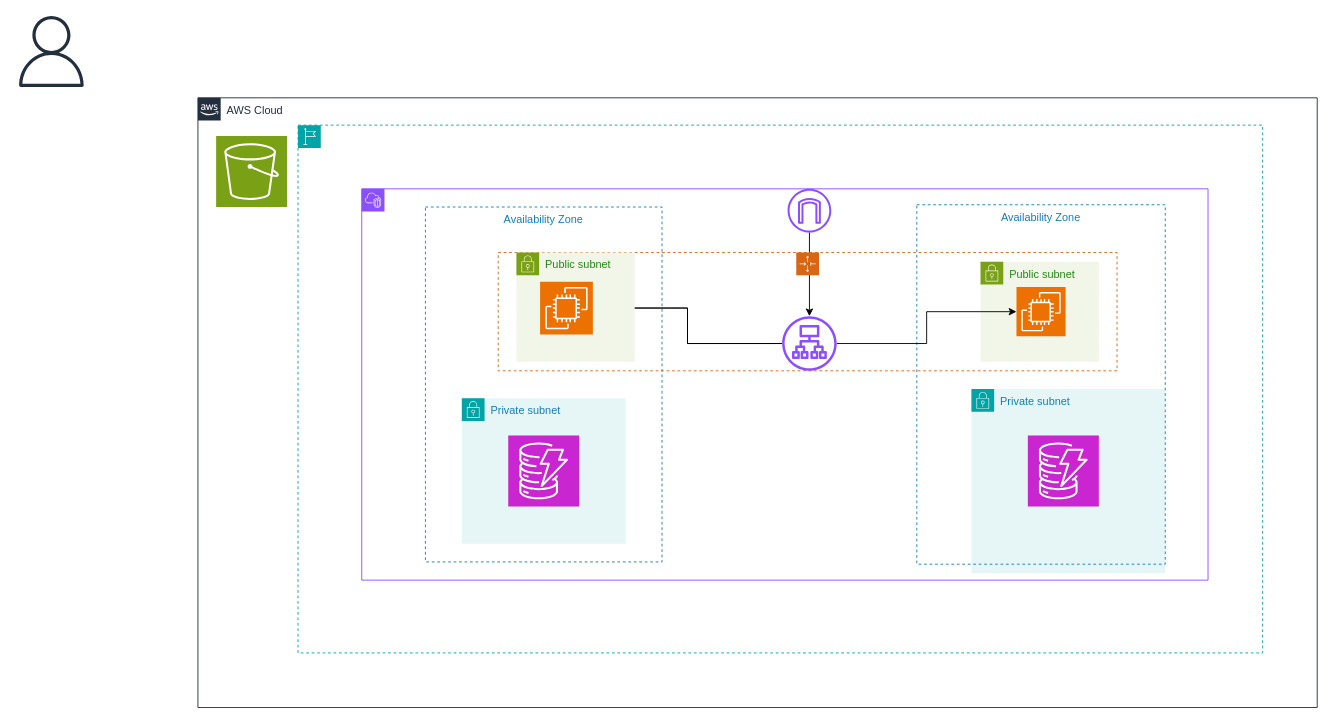
This 1333x723 diagram has some shape labels left out. Each missing label, with the box of its shape:
Auto Scaling group: (497, 252, 1117, 371)
Region: (297, 124, 1263, 653)
VPC: (361, 188, 1208, 580)
